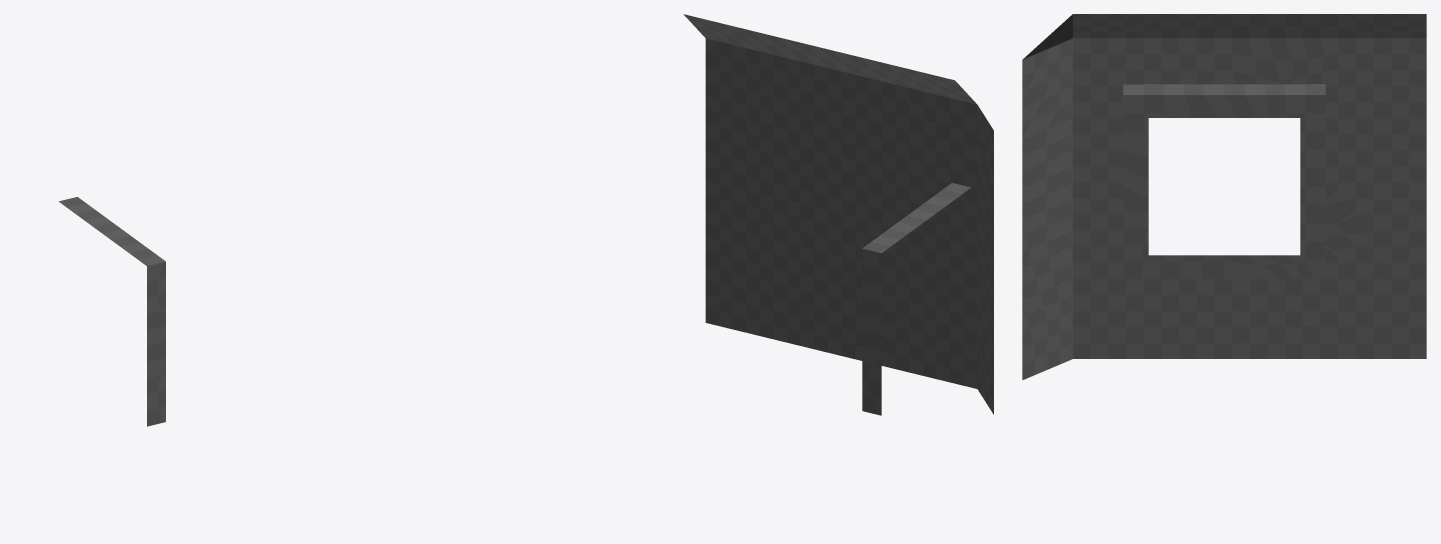
3 views of the same model, side by side, from view 1: azimuth 30°, elevation 25°; view 2: azimuth 150°, elevation 25°; view 3: azimuth 270°, elevation 25° (orthographic). The views are drawn at different scales.
Parts seen in each view (by area): view 1: 1; view 2: 1; view 3: 1.
Part boxes in pixels (<box>): 1: <box>58,197,165,426</box>; 1: <box>683,14,993,415</box>; 1: <box>1022,14,1426,380</box>.
Size of the model in its own units: 2 by 2 by 2.
Materials: 2 (2 with a texture image).
